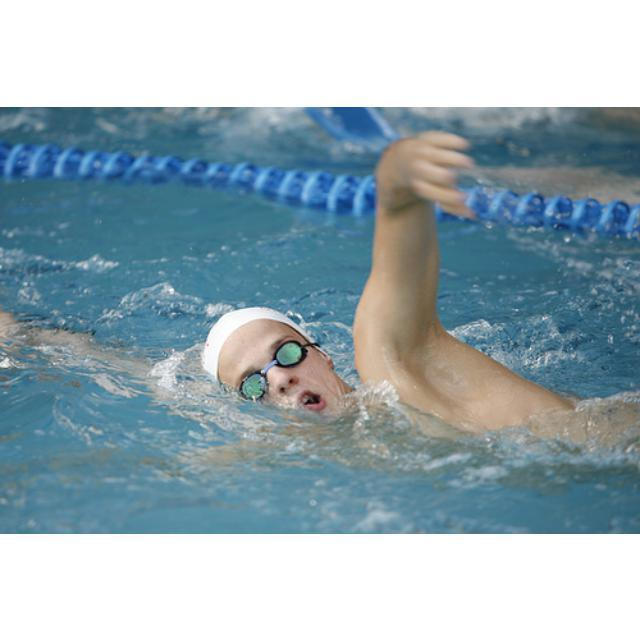human: (198, 129, 624, 461)
